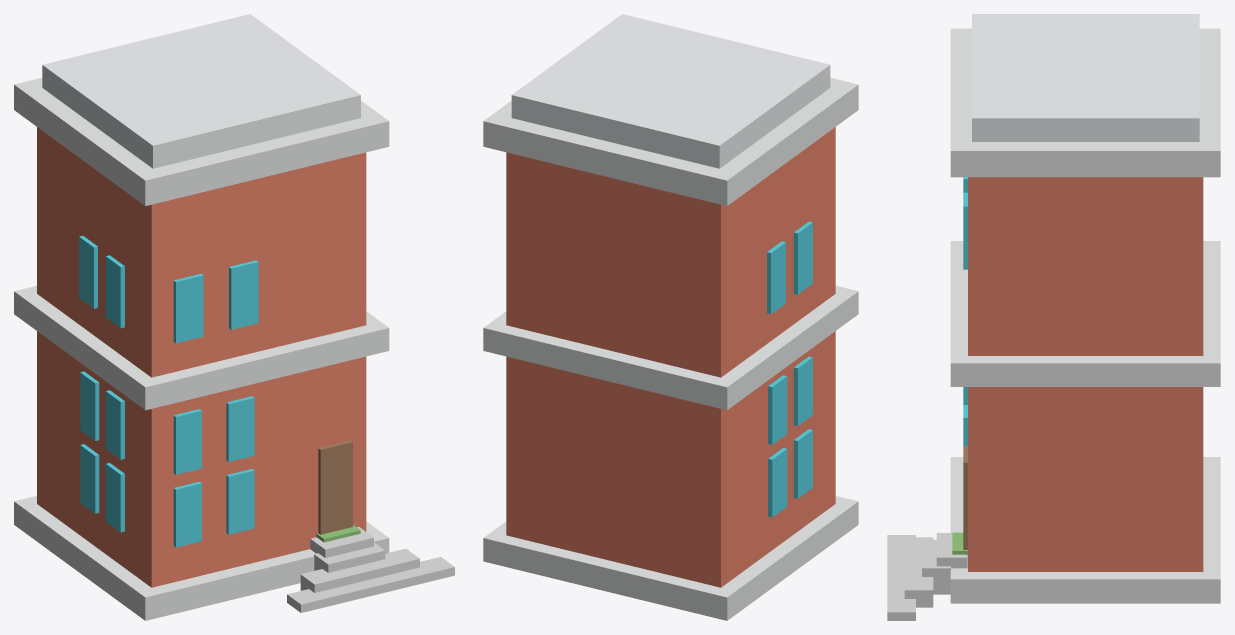
Rendered from House03.fbx.
3 renders of one model, left to right at view 1: azimuth 30°, elevation 25°; view 2: azimuth 150°, elevation 25°; view 3: azimuth 270°, elevation 25°, orthographic. The views are drawn at different scales.
Visible parts, largest first — view 1: House03, red_townhouse_2story.001; view 2: House03; view 3: House03, red_townhouse_2story.001.
Part boxes in pixels (x1,y1,x2,y2): House03: (14, 14, 389, 620); red_townhouse_2story.001: (287, 542, 454, 612); House03: (483, 14, 858, 620); House03: (936, 14, 1220, 603); red_townhouse_2story.001: (887, 535, 950, 620).
Size of the model in its own units: 827 by 1314 by 834.
